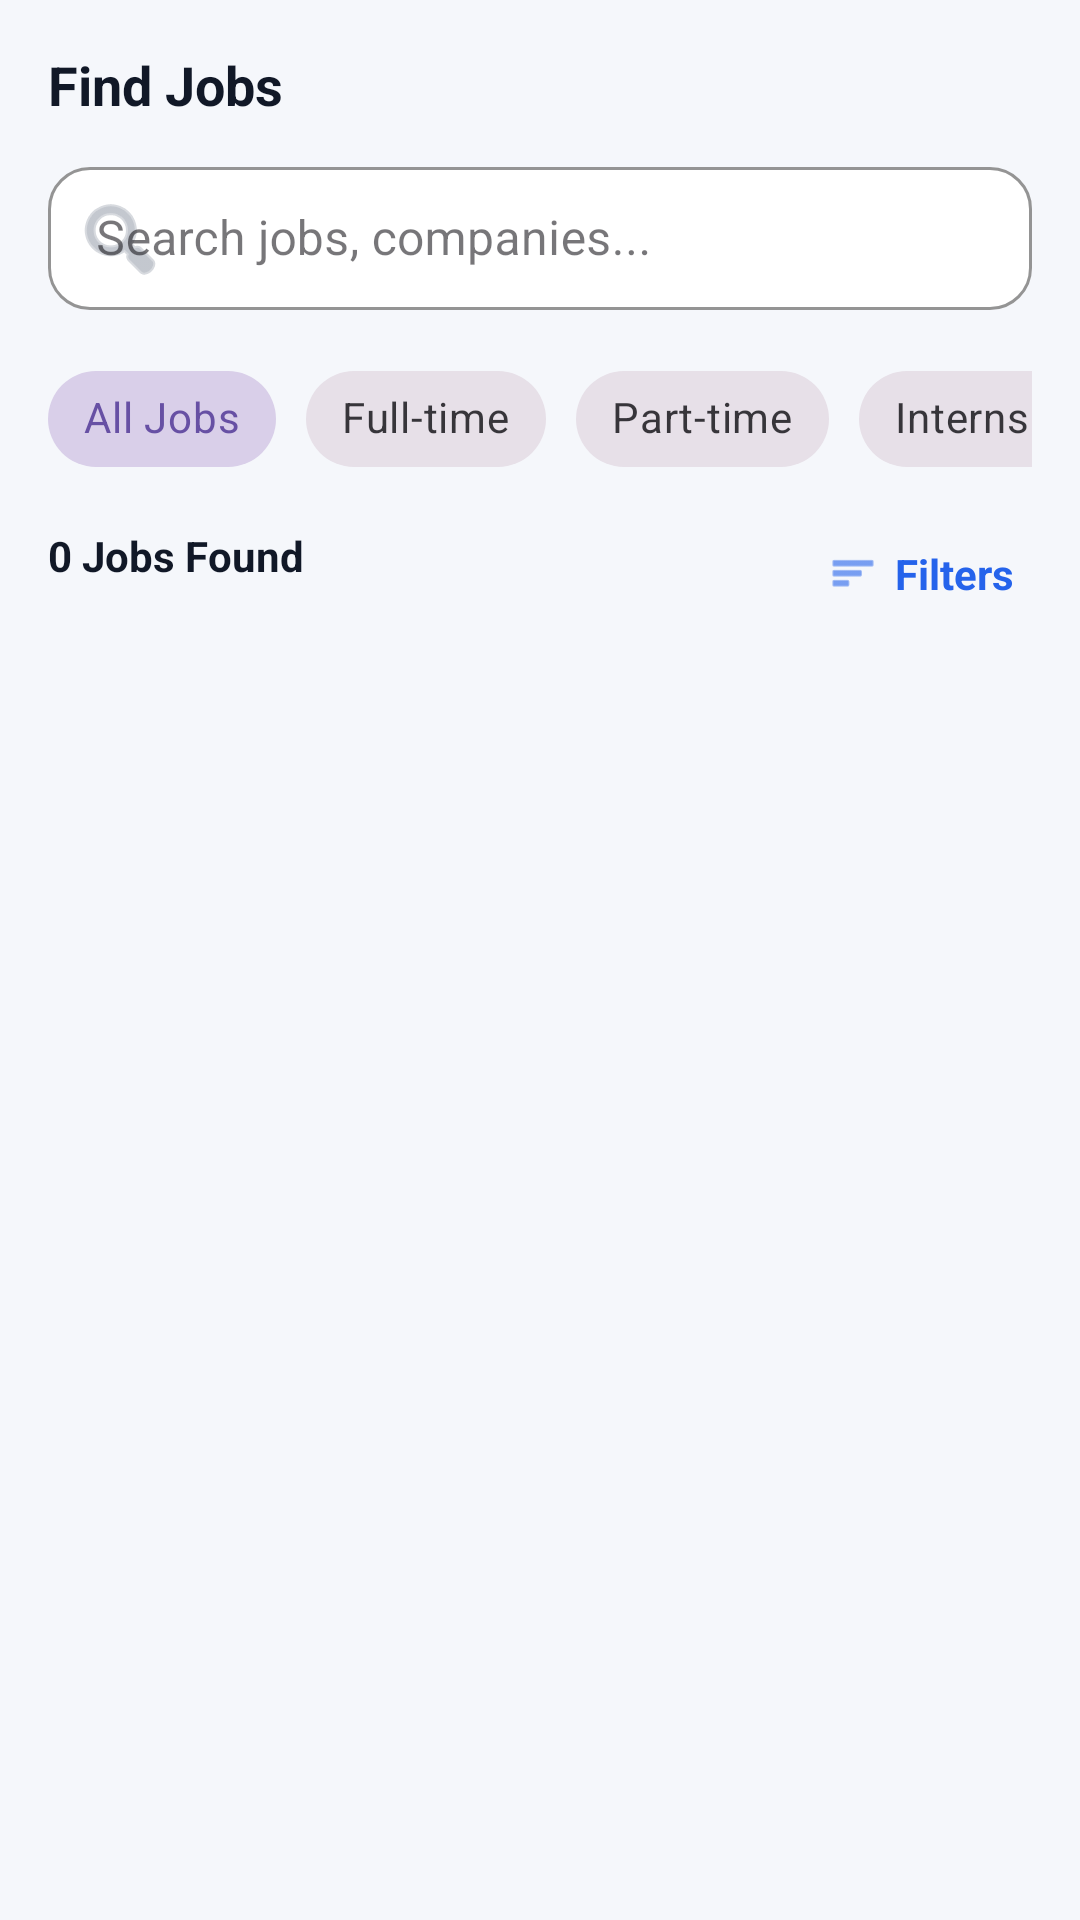

Locate icon controls on the screen. Image size 1080x1920, boxes as (x1, y1, x2, y2).
sort by size: (832, 560, 874, 587)
